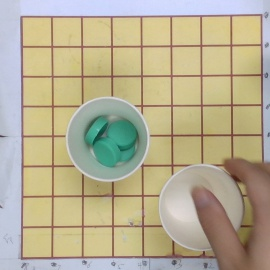cup: (159, 163, 245, 251)
cup_green: (67, 97, 150, 182)
